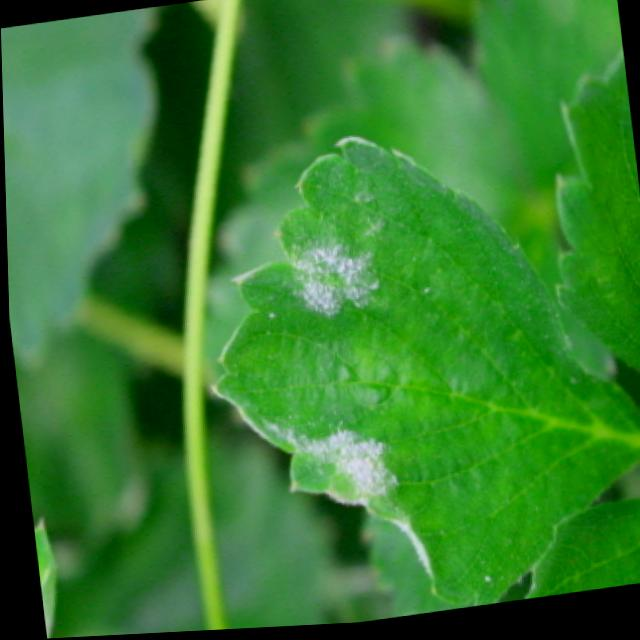Powdery Mildew Leaf: (201, 137, 640, 611)
